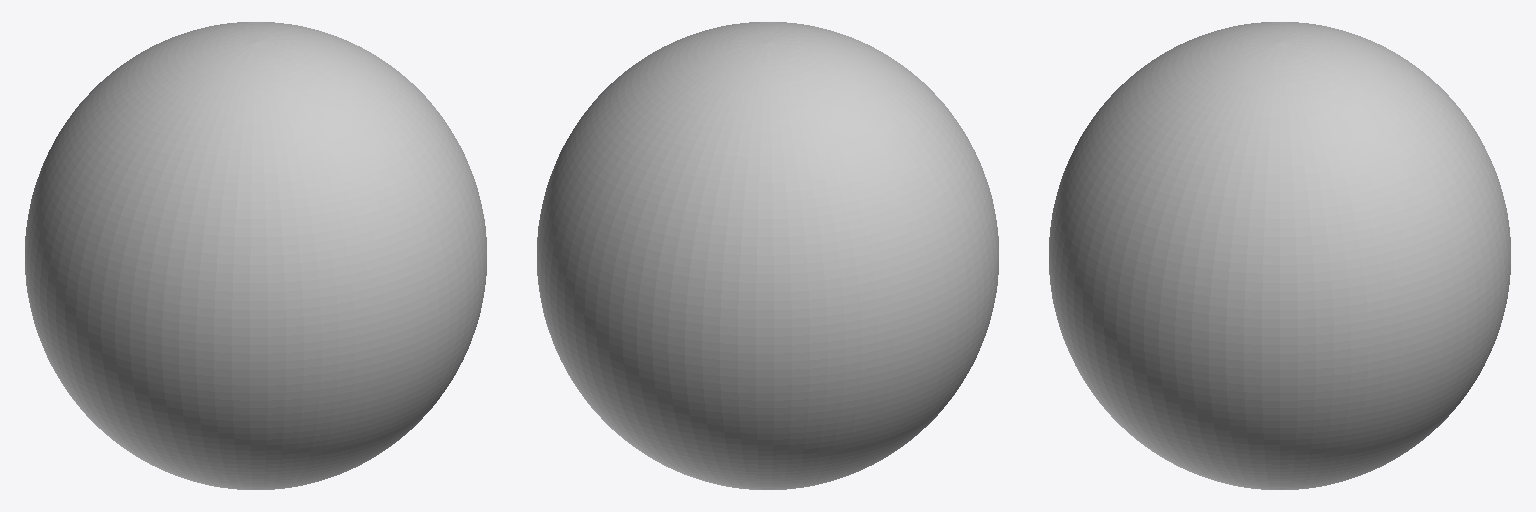
File: sun.obj
The picture shows the model from 3 angles: view 1: azimuth 30°, elevation 25°; view 2: azimuth 150°, elevation 25°; view 3: azimuth 270°, elevation 25°; orthographic projection.
Visible parts, largest first — view 1: sun_pSphere3_pSphere1SmoothProxyGroup_pSphere2SmoothProxyGroup_p; view 2: sun_pSphere3_pSphere1SmoothProxyGroup_pSphere2SmoothProxyGroup_p; view 3: sun_pSphere3_pSphere1SmoothProxyGroup_pSphere2SmoothProxyGroup_p.
Boxes of the visible parts, x1=… form: sun_pSphere3_pSphere1SmoothProxyGroup_pSphere2SmoothProxyGroup_p: x1=25, y1=22, x2=486, y2=489; sun_pSphere3_pSphere1SmoothProxyGroup_pSphere2SmoothProxyGroup_p: x1=537, y1=22, x2=998, y2=489; sun_pSphere3_pSphere1SmoothProxyGroup_pSphere2SmoothProxyGroup_p: x1=1049, y1=22, x2=1510, y2=489.
Bounding box in the file's own units: 13.9 × 14.15 × 13.9.